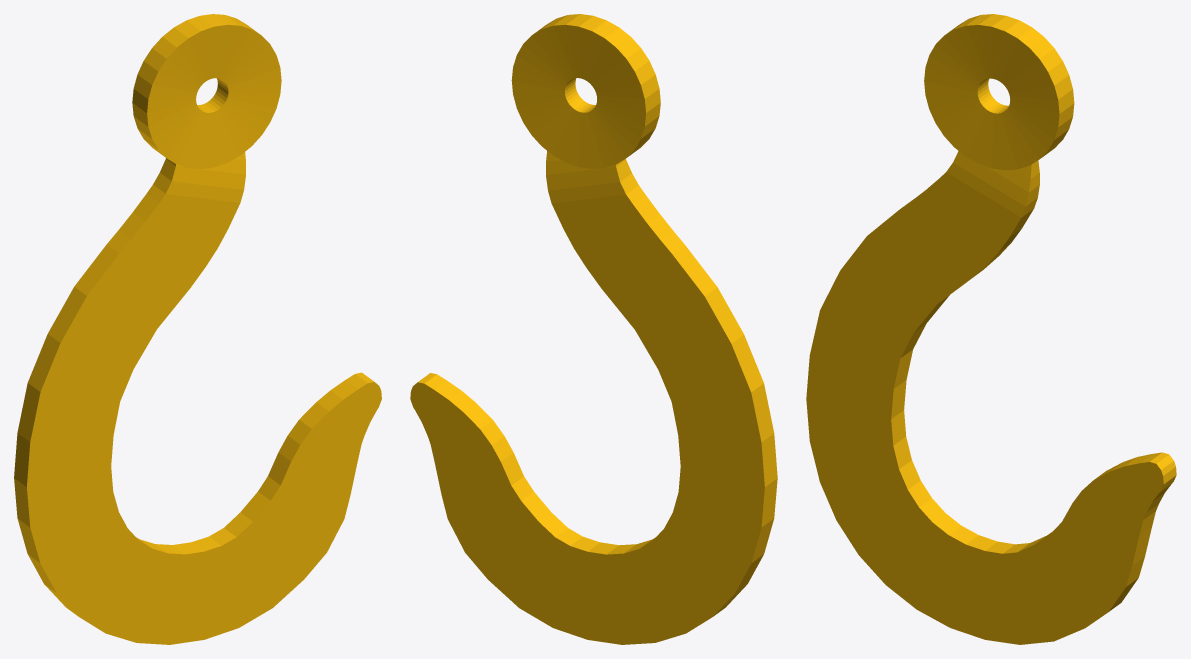
Rendered from hook.glb.
3 views of the same model, side by side, from view 1: azimuth 30°, elevation 25°; view 2: azimuth 150°, elevation 25°; view 3: azimuth 330°, elevation 25° (orthographic).
Parts seen in each view (by area): view 1: Circle.2592; view 2: Circle.2592; view 3: Circle.2592.
Boxes of the visible parts, bbox=[...] form: Circle.2592: bbox=[14, 14, 381, 644]; Circle.2592: bbox=[410, 14, 777, 644]; Circle.2592: bbox=[806, 14, 1176, 644].
Size of the model in its own units: 1.37 by 2.26 by 0.0988.
1 material, 1 textured.
